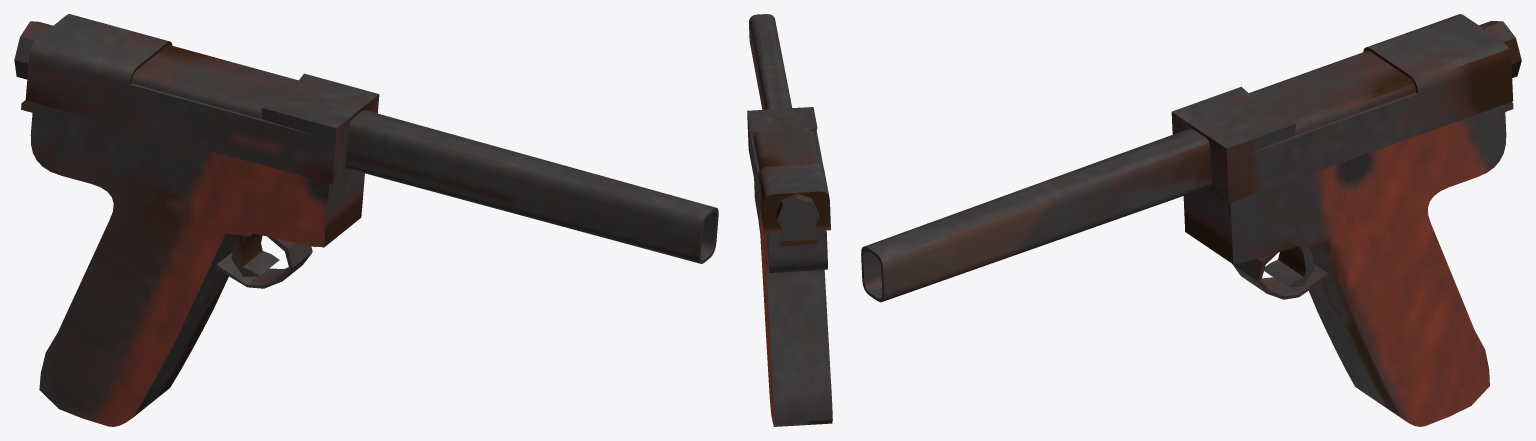
Rendered from GUN2_01.fbx.
The picture shows the model from 3 angles, left to right: view 1: azimuth 30°, elevation 25°; view 2: azimuth 150°, elevation 25°; view 3: azimuth 270°, elevation 25°; orthographic projection. The views are drawn at different scales.
Visible parts, largest first — view 1: Gun; view 2: Gun; view 3: Gun.
Part boxes in pixels (x1,y1,x2,y2): Gun: [14, 14, 718, 426]; Gun: [747, 14, 832, 426]; Gun: [861, 14, 1521, 426].
Bounding box in the file's own units: 82.86 × 71.17 × 116.
